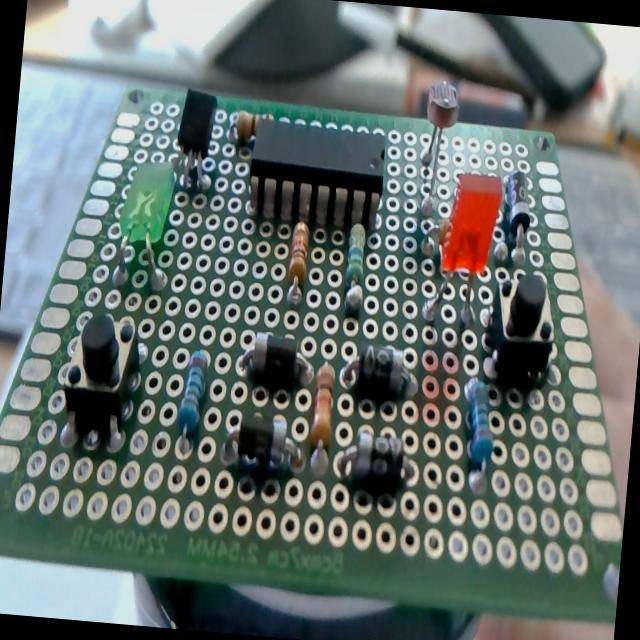IC: (244, 116, 391, 225)
cds: (415, 78, 461, 208)
diode: (221, 409, 306, 476), (334, 426, 410, 498), (338, 342, 420, 404), (498, 163, 542, 270), (237, 331, 316, 389)
led: (428, 170, 504, 332), (114, 157, 180, 286)
resistor: (458, 377, 500, 469), (174, 347, 209, 446), (340, 220, 368, 315), (308, 362, 336, 453), (286, 218, 312, 296)
switch: (57, 306, 143, 448), (478, 268, 558, 388)
transistor: (172, 85, 220, 191)
